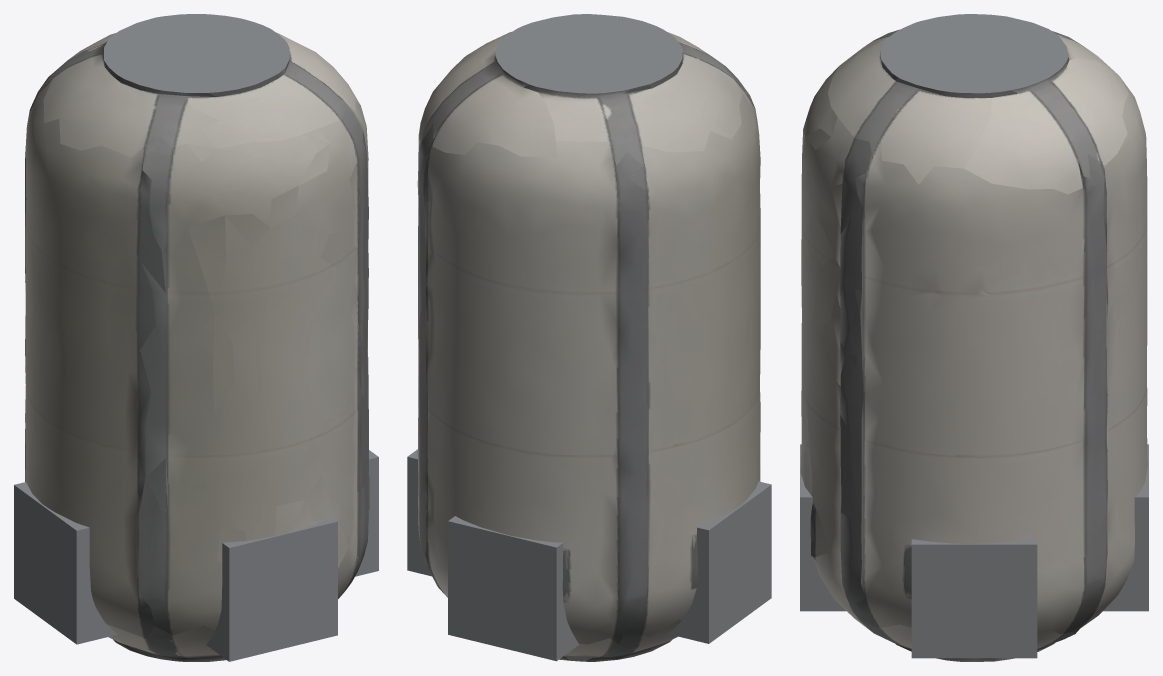
File: propellant_tank_mk2.glb
The picture shows the model from 3 angles, left to right: view 1: azimuth 30°, elevation 25°; view 2: azimuth 150°, elevation 25°; view 3: azimuth 270°, elevation 25°; orthographic projection.
Parts seen in each view (by area): view 1: part; view 2: part; view 3: part.
Part boxes in pixels (box(x1,y1,x2,y2)): part: box(14, 14, 378, 661); part: box(407, 14, 771, 661); part: box(800, 14, 1148, 661).
Bounding box in the file's own units: 2 × 3.6 × 2.
2 materials, 1 textured.
